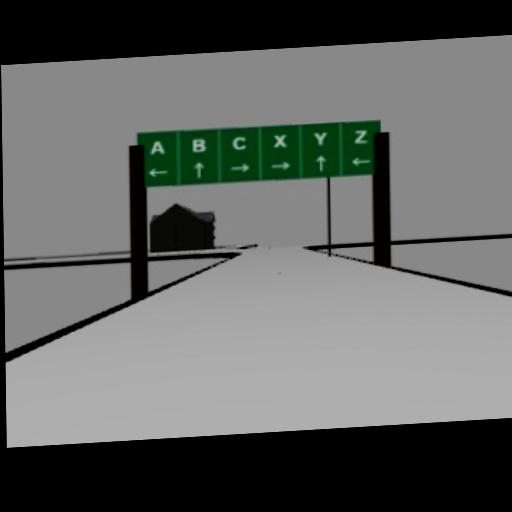A: (149, 138, 165, 153)
B: (191, 136, 205, 151)
C: (231, 135, 245, 149)
Left: (348, 155, 371, 167), (148, 165, 167, 176)
Right: (270, 160, 291, 171), (230, 162, 249, 172)
Straight: (193, 160, 204, 177), (315, 153, 326, 169)
X: (273, 133, 287, 146)
Y: (313, 131, 327, 146)
Z: (353, 128, 367, 143)
